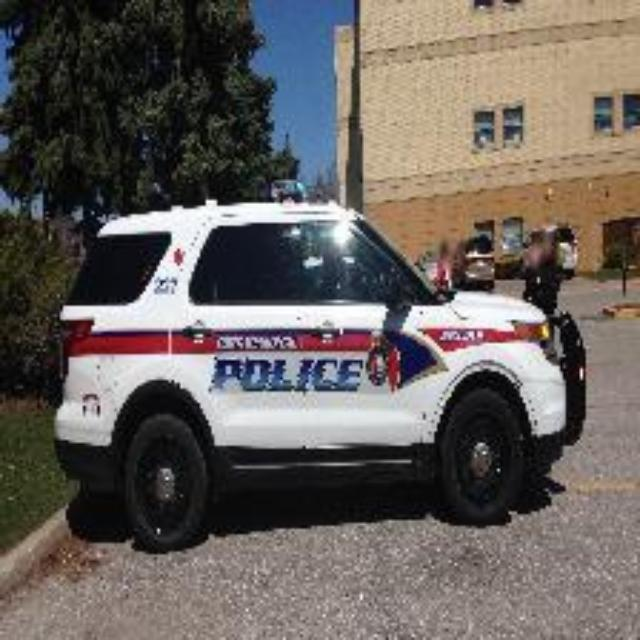emergency: (59, 199, 584, 547)
